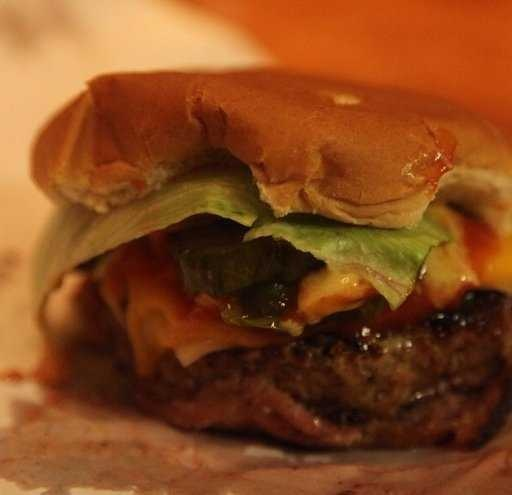hamburger: (37, 62, 504, 439)
